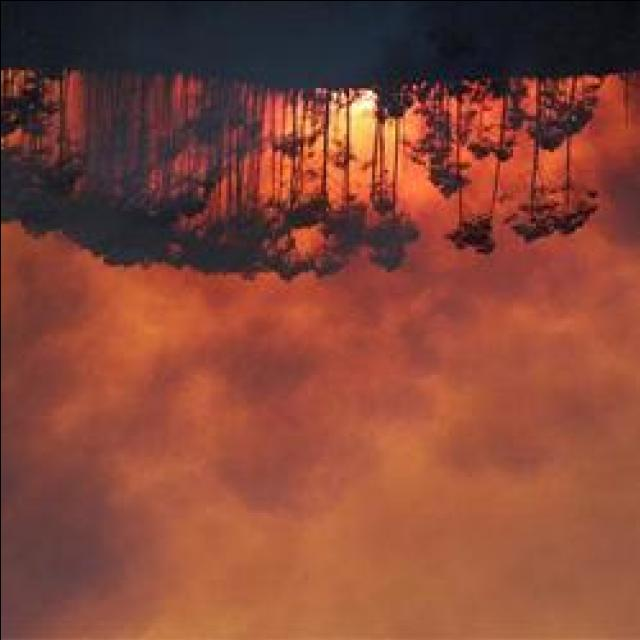smoke: (3, 322, 200, 636), (213, 299, 440, 525), (435, 250, 640, 498), (1, 253, 100, 443), (589, 107, 640, 266)
